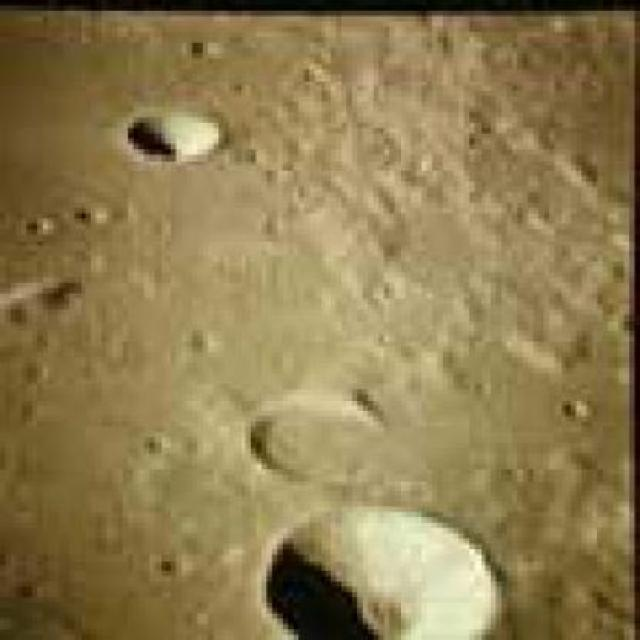crater: (266, 508, 497, 640), (123, 115, 219, 156)
